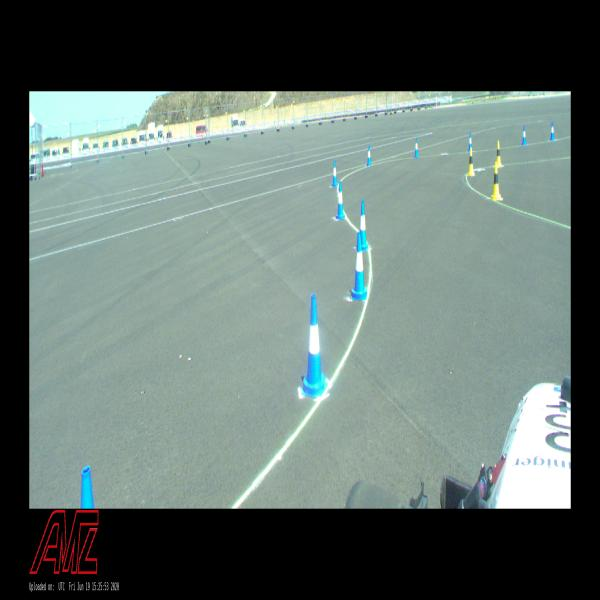blue_cone: (301, 294, 327, 397), (351, 232, 368, 300), (358, 202, 368, 249), (336, 182, 345, 219), (332, 160, 338, 186), (414, 138, 419, 158), (550, 122, 555, 141), (367, 144, 371, 166), (468, 132, 472, 152), (522, 126, 526, 145)
yellow_cone: (491, 162, 501, 199), (468, 148, 474, 174), (496, 141, 502, 167)
